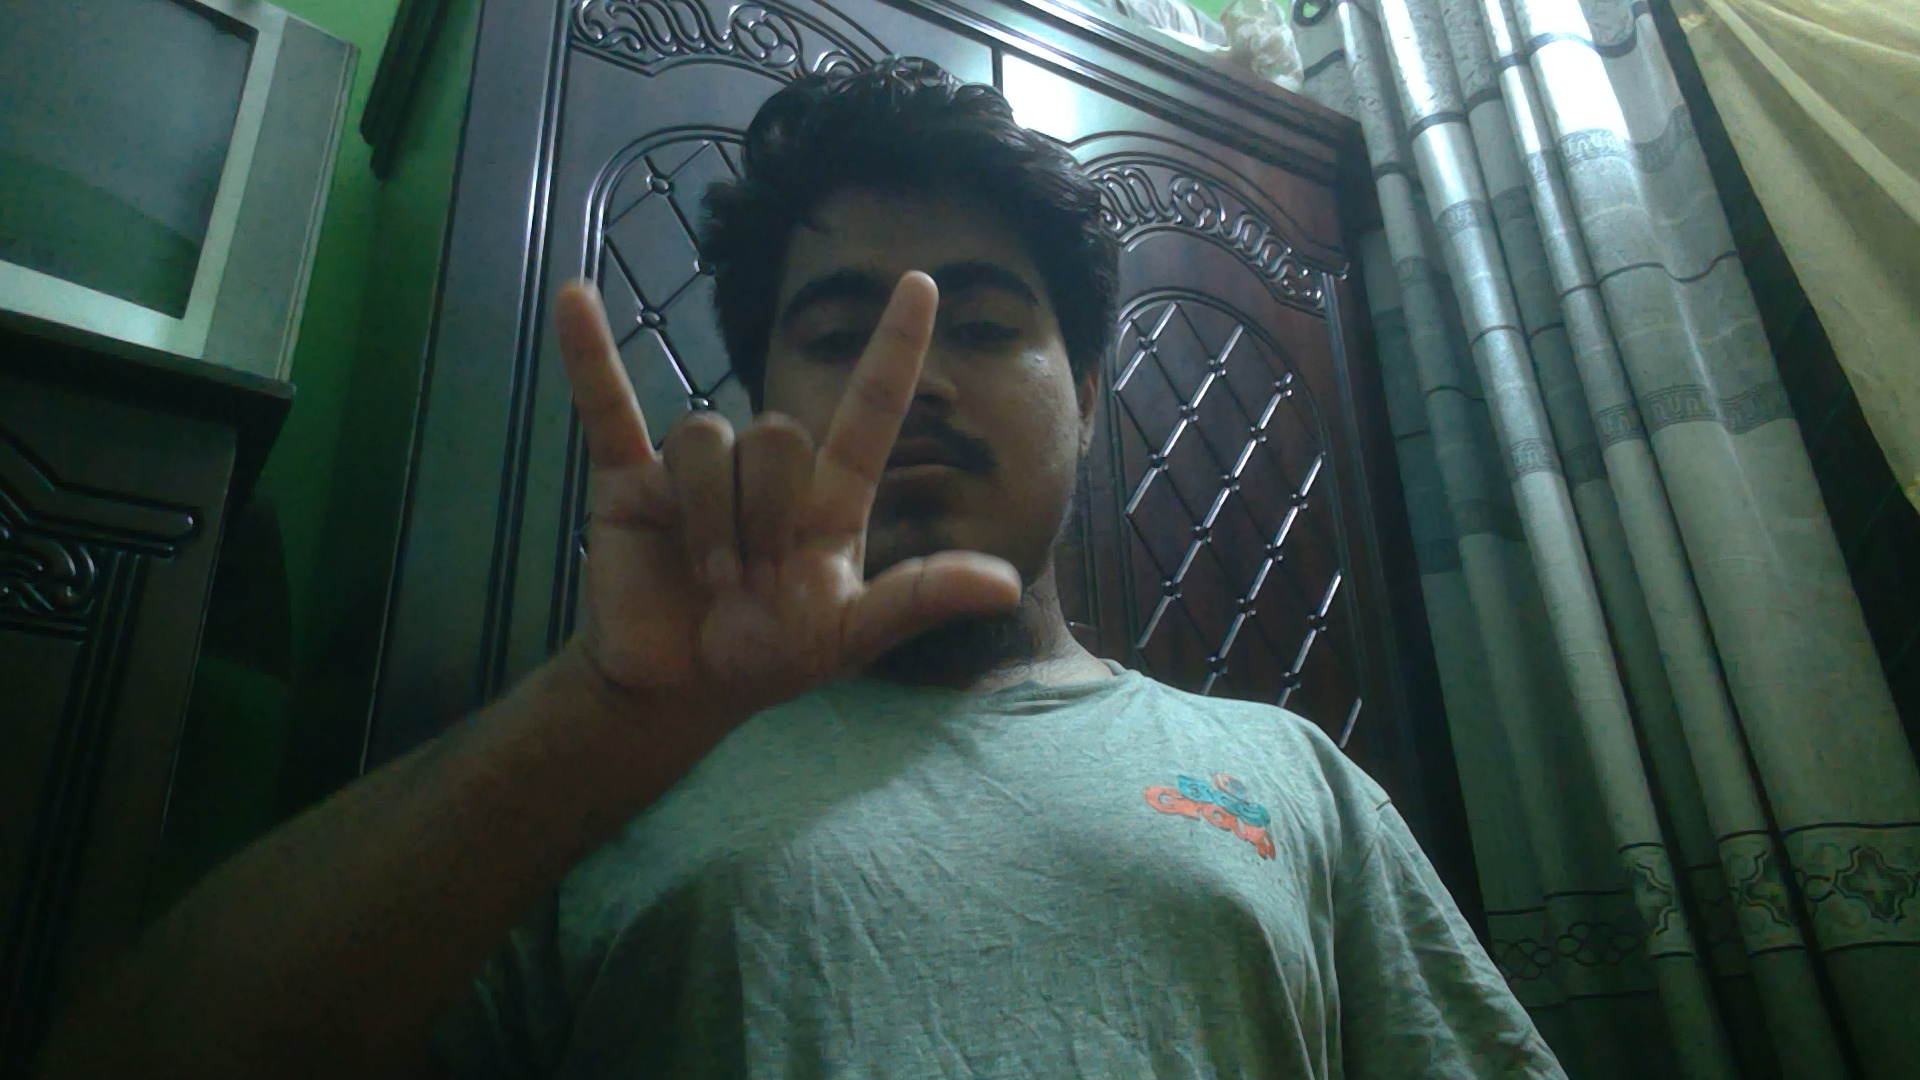Iloveyou: (551, 258, 1040, 713)
